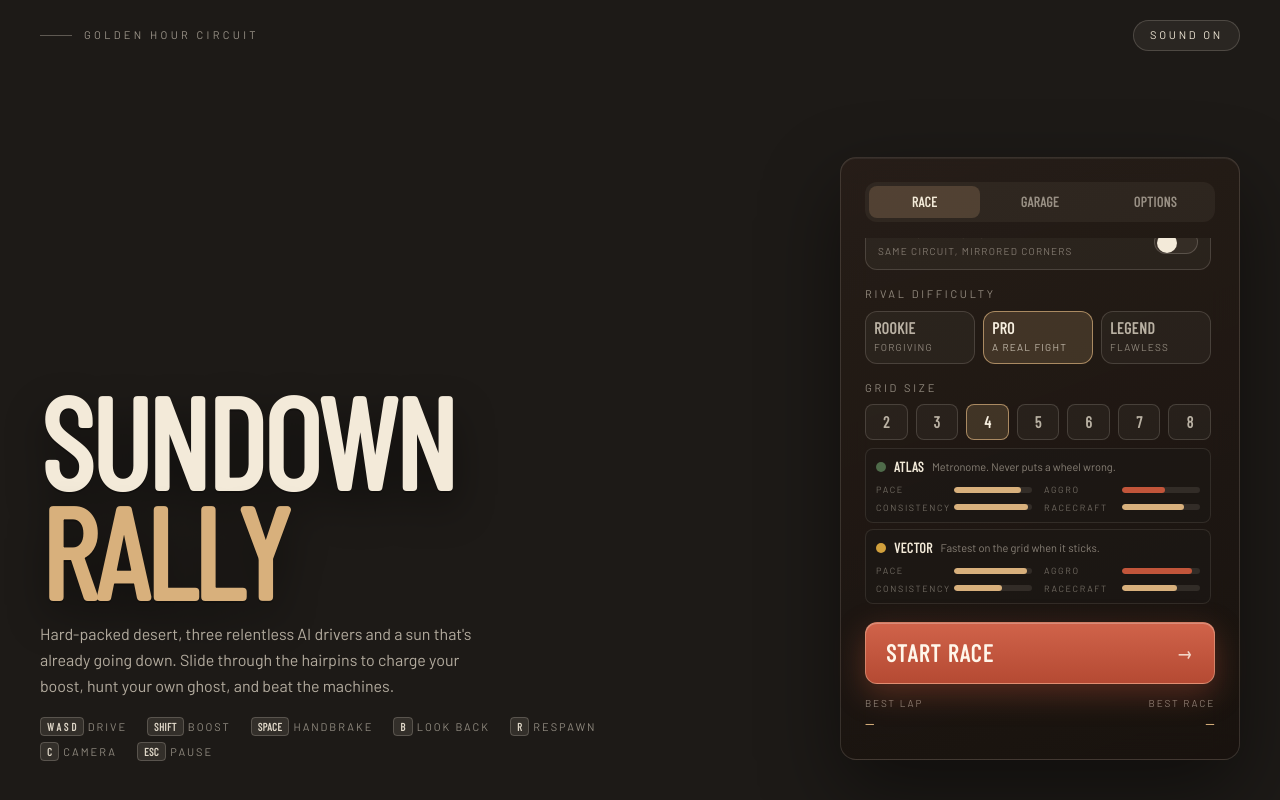
Test: screens render without crashing › lets you size the grid and previews the rivals you will face
The image size is (1280, 800).
(page scrolled)
What coordinates should you click on to do the following:
click the button named "8 cars"
I would click on:
 (1190, 422)
Its box is [1168, 404, 1211, 440].
(page scrolled)
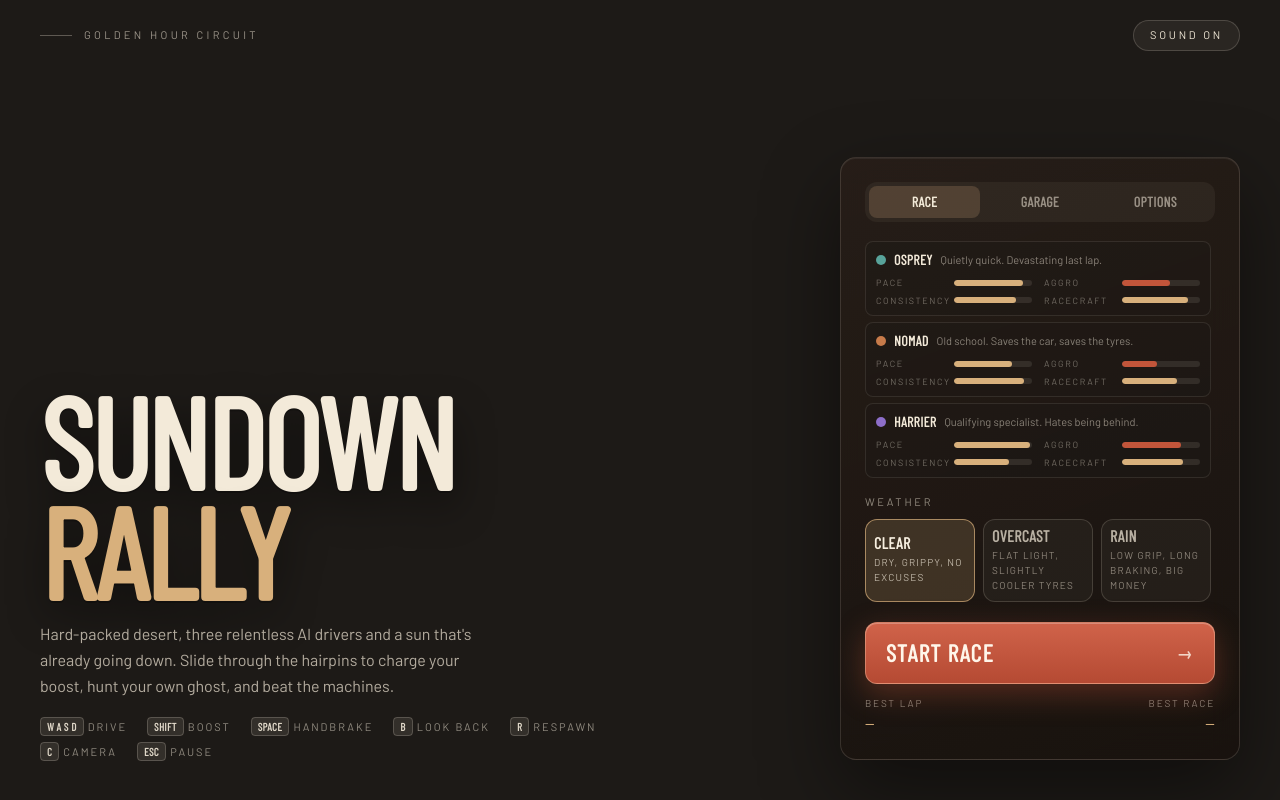
Result: the text "HARRIER" is shown at [894, 412, 936, 432]
Result: the text "Racecraft" is shown 7 times
